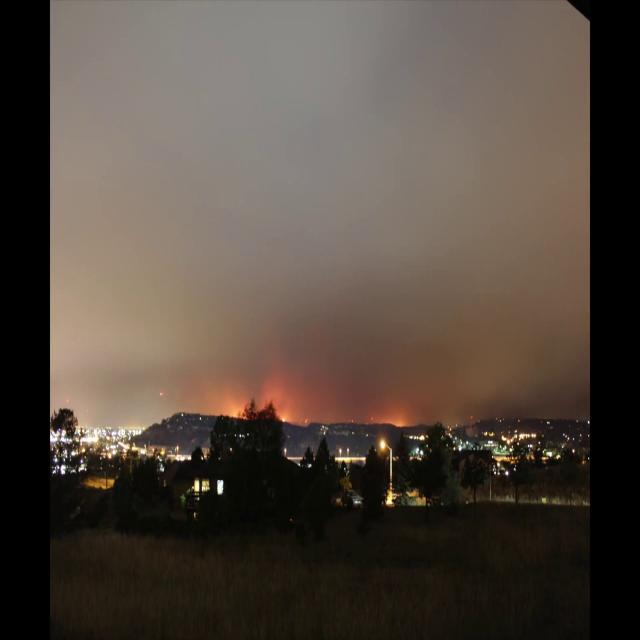Fire: (281, 414, 285, 422)
